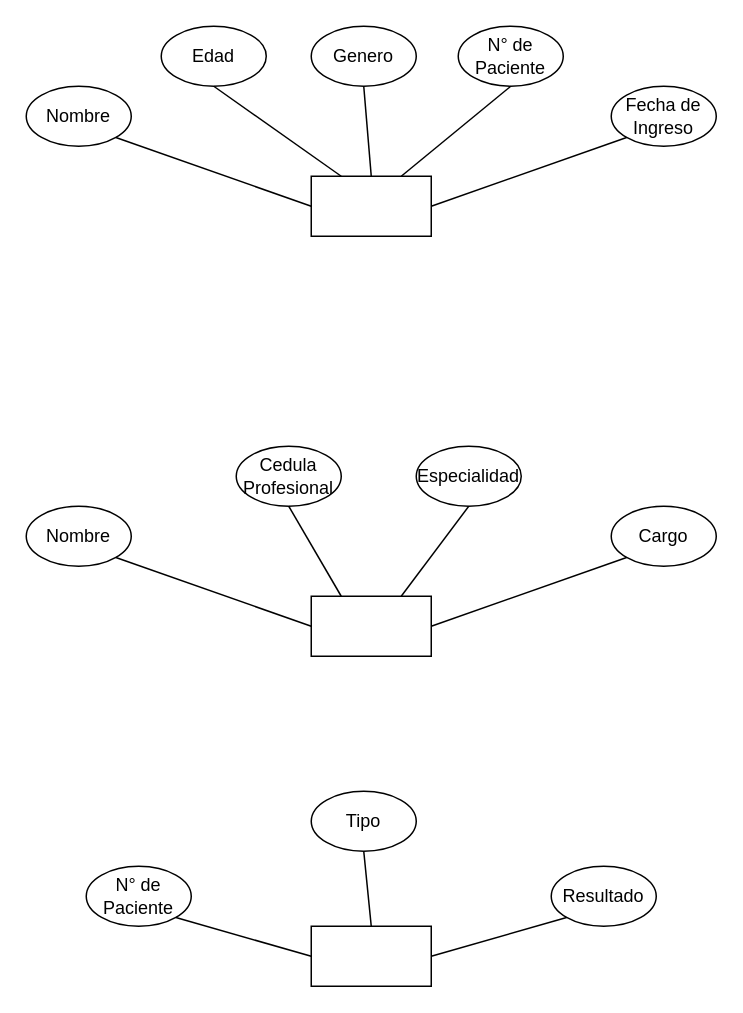
Image size: 743x1013. Some labels were removed from this diagram. Here are the shapes that lost their labels. From the top down, the box of each, then its label:
(310, 175, 431, 236): Paciente
(310, 595, 431, 656): Medico
(310, 925, 431, 986): Analisis
